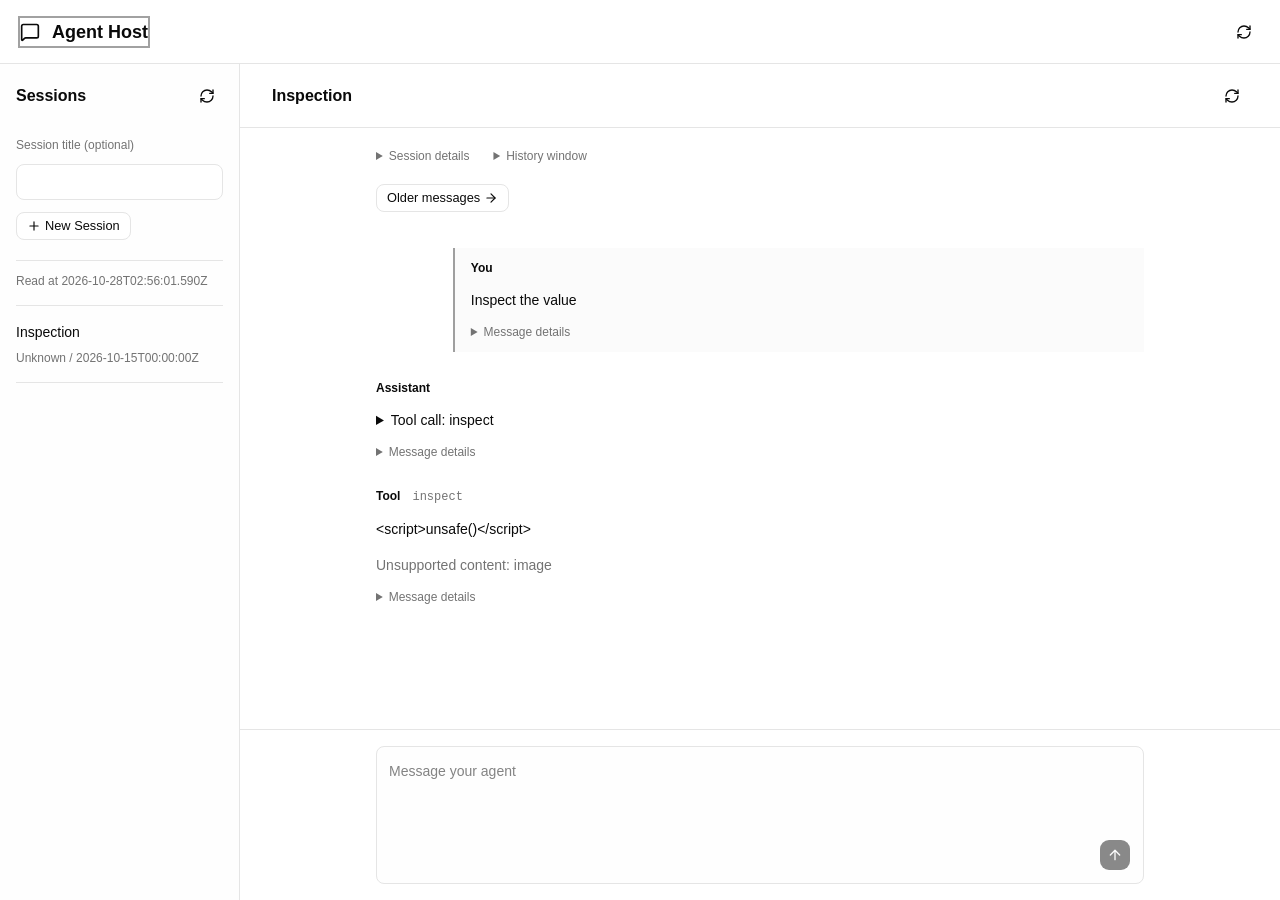
Agent Host Session browsing › recovers uncertain admission only through discovered lease identity, never a guessed Run or input replay
Type "Only once" into the text box named "New input".
click(760, 795); type("Only once")  # box [389, 759, 1131, 831]
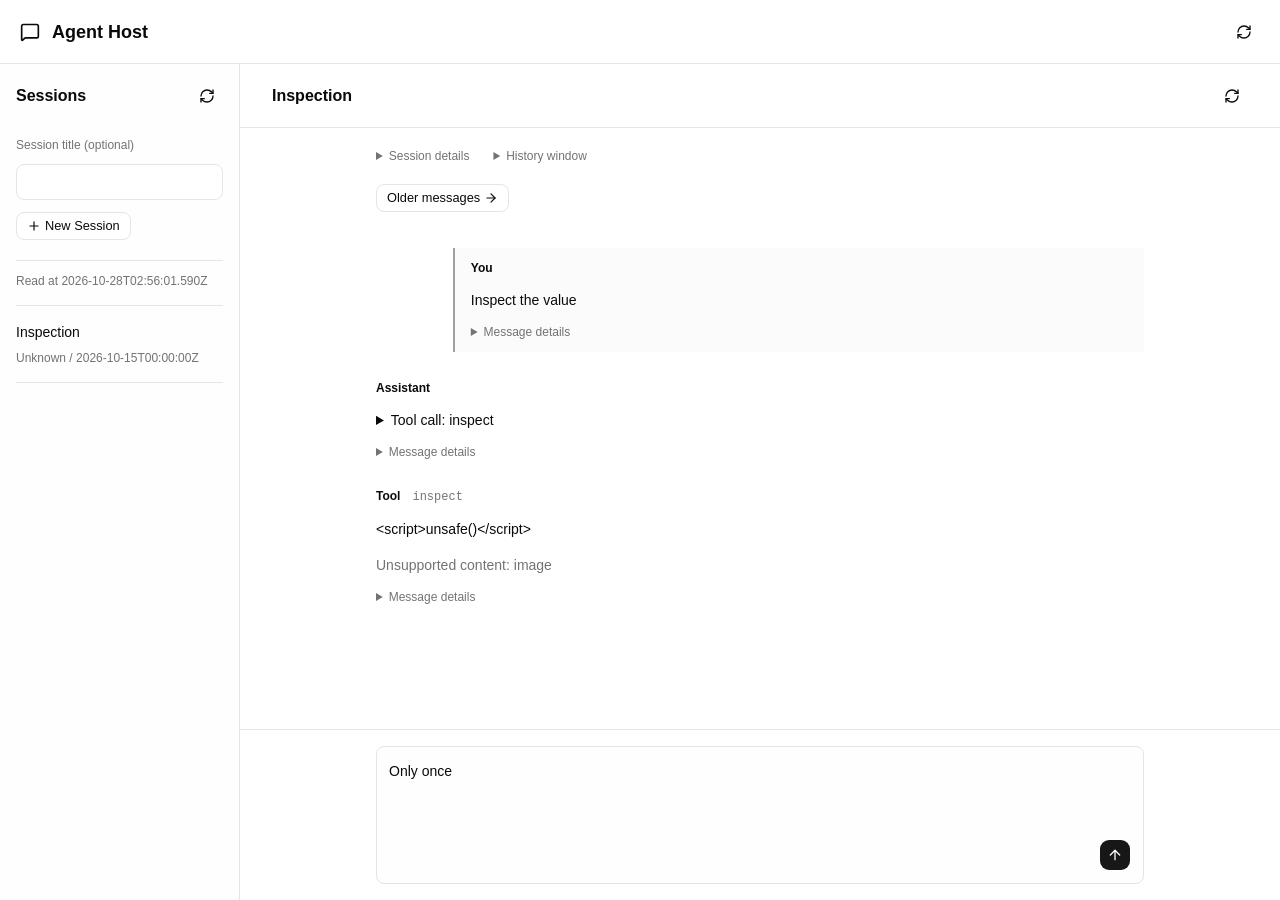
Click the button named "Send input".
click(1115, 855)  # box [1099, 839, 1131, 871]
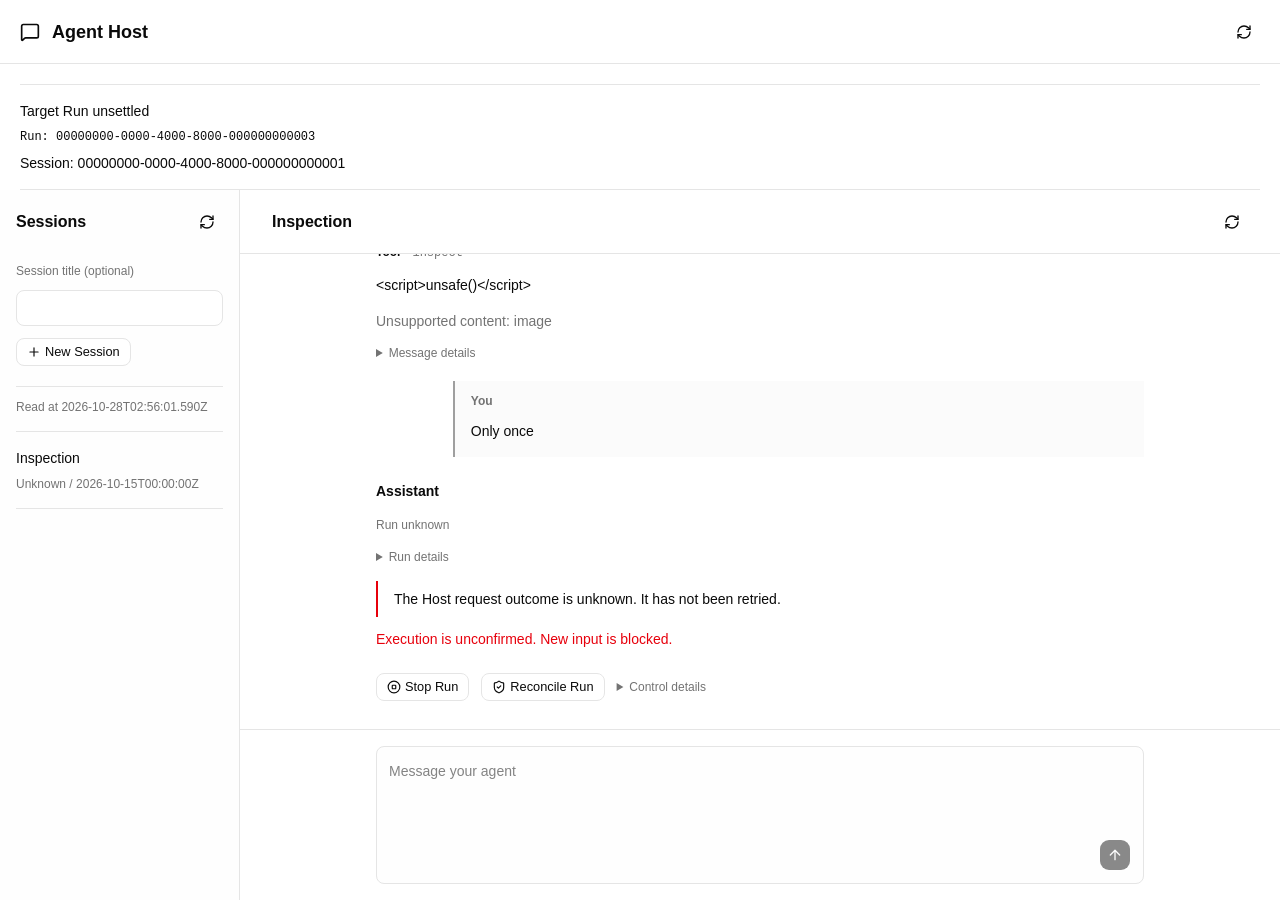
Result: the text "Run unknown" is shown at [376, 518, 449, 532]
Click the button "Reconcile Run".
click(543, 687)  # box [481, 673, 605, 701]
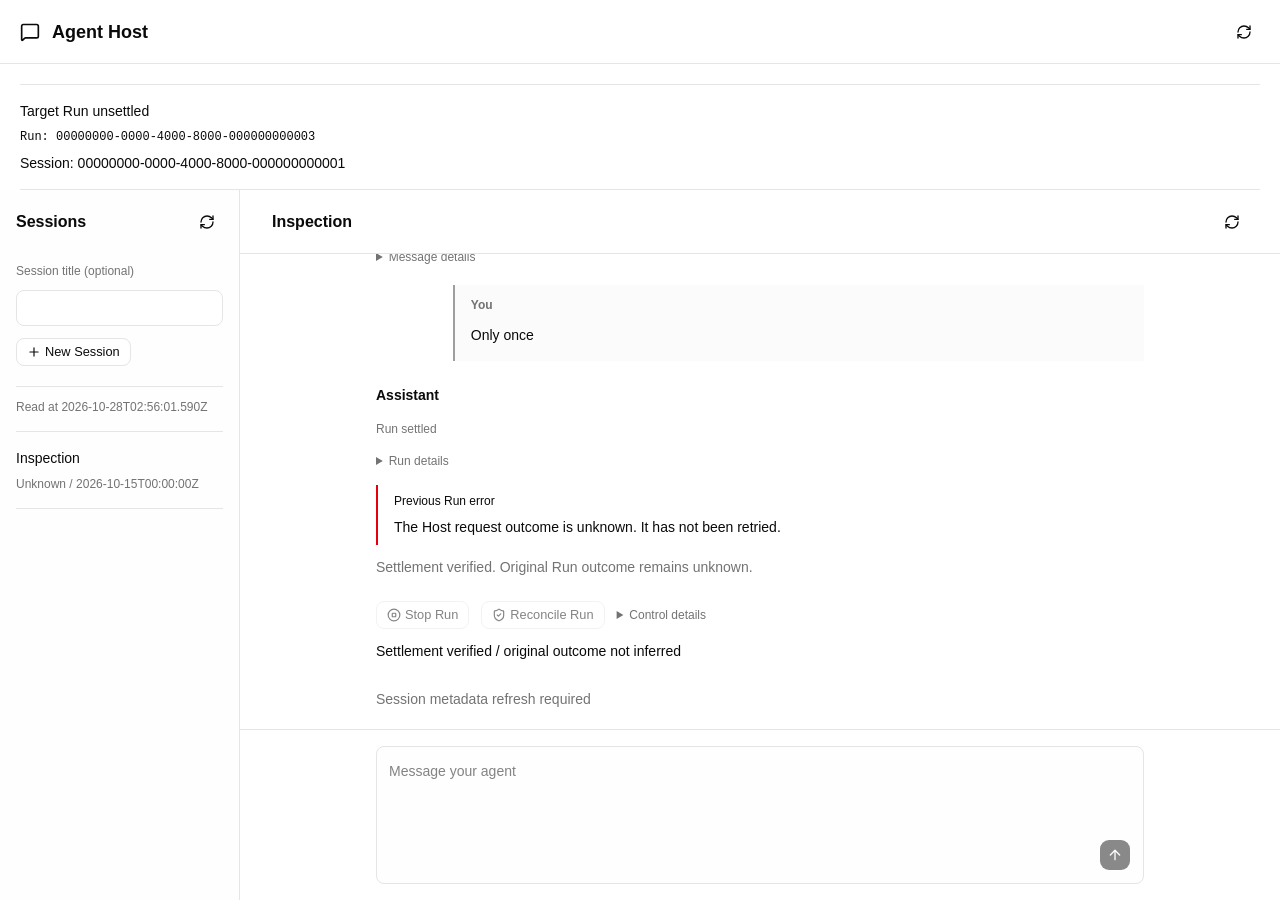
Result: the text "Run settled" is shown at [376, 422, 437, 436]
Type "A different new turn" into the text box named "New input".
click(760, 795); type("A different new turn")  # box [389, 759, 1131, 831]
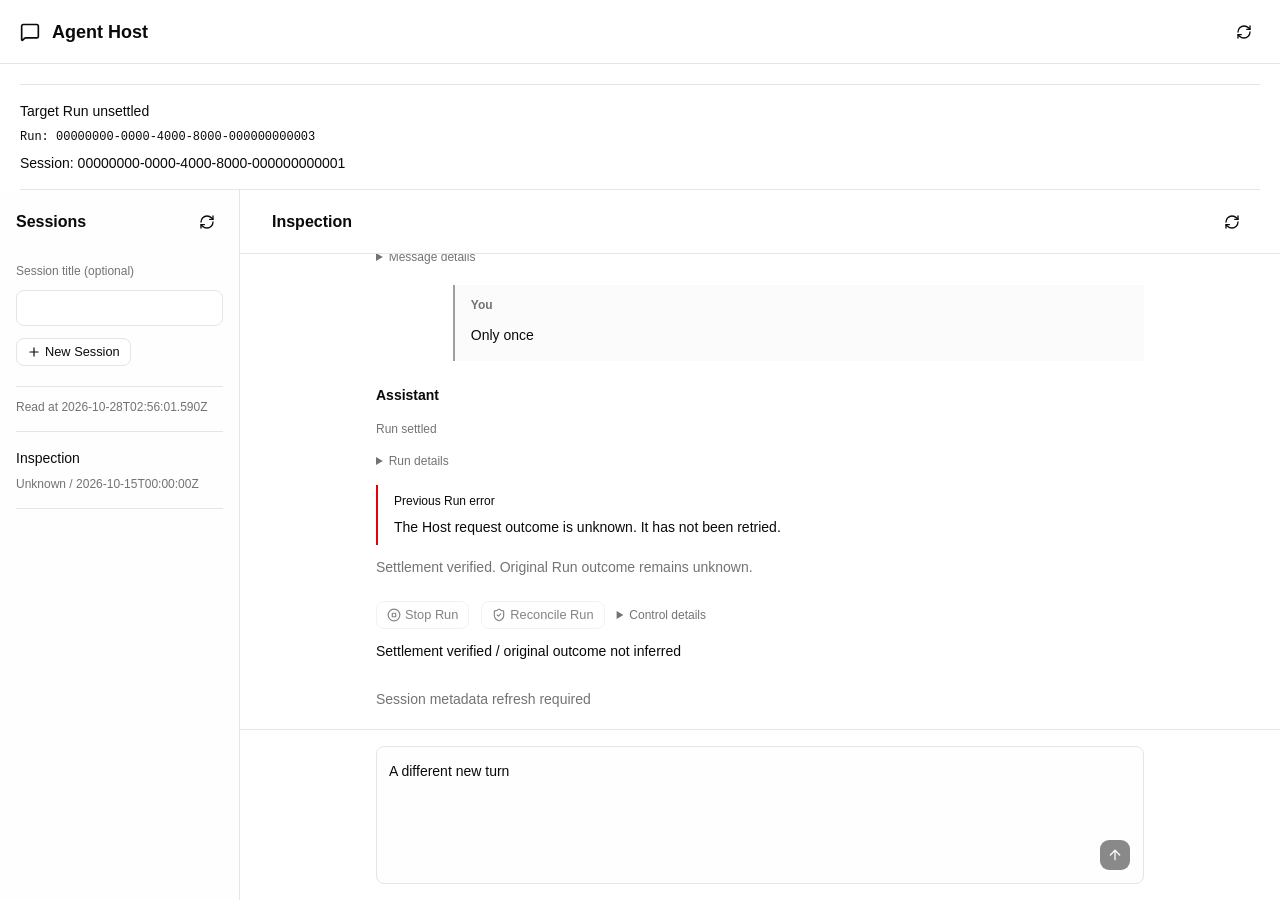
Result: the button named "Send input" is disabled at [1099, 839, 1131, 871]
Click the button named "Refresh Session".
click(1232, 222)  # box [1216, 206, 1248, 238]
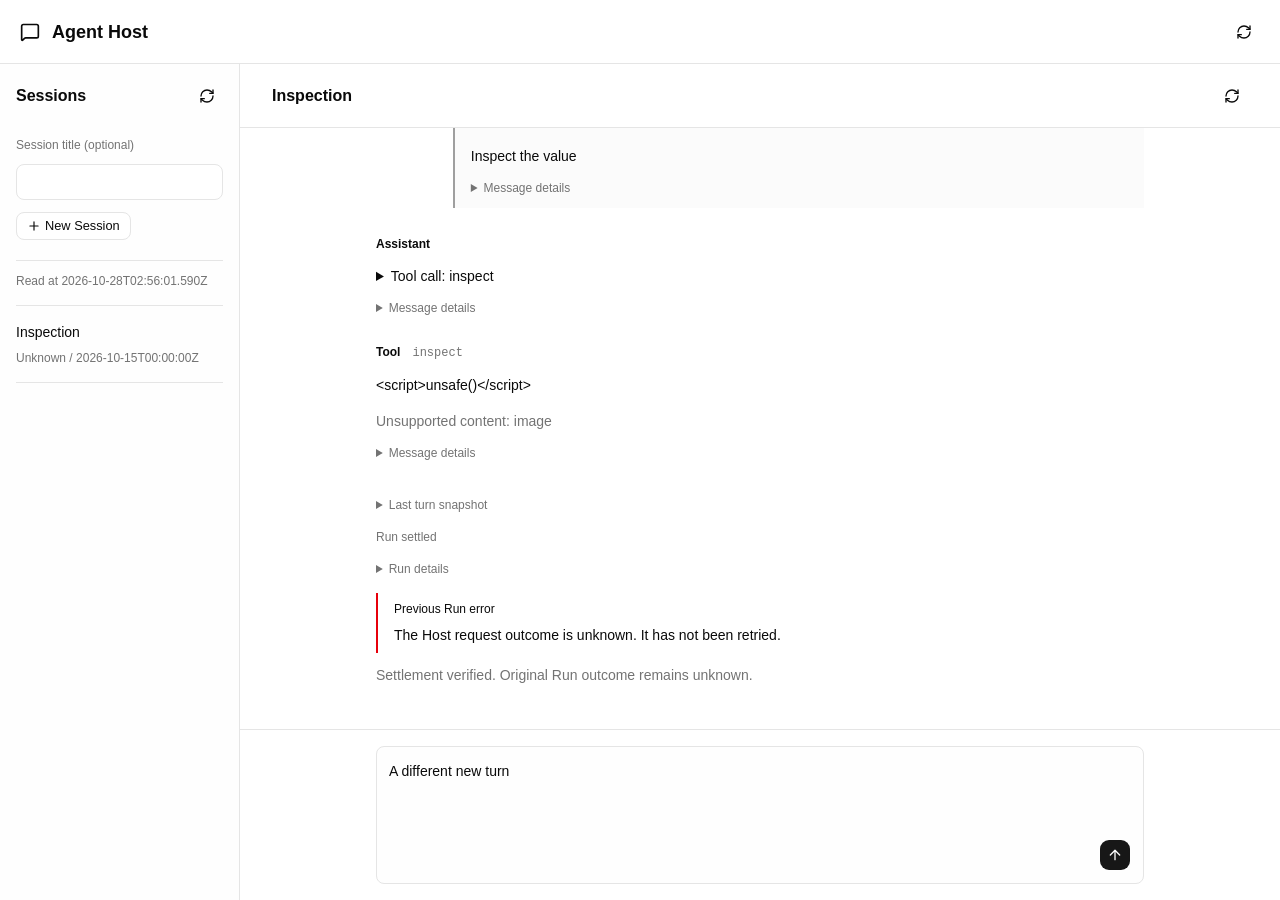
Result: the button named "Send input" is enabled at [1099, 839, 1131, 871]
